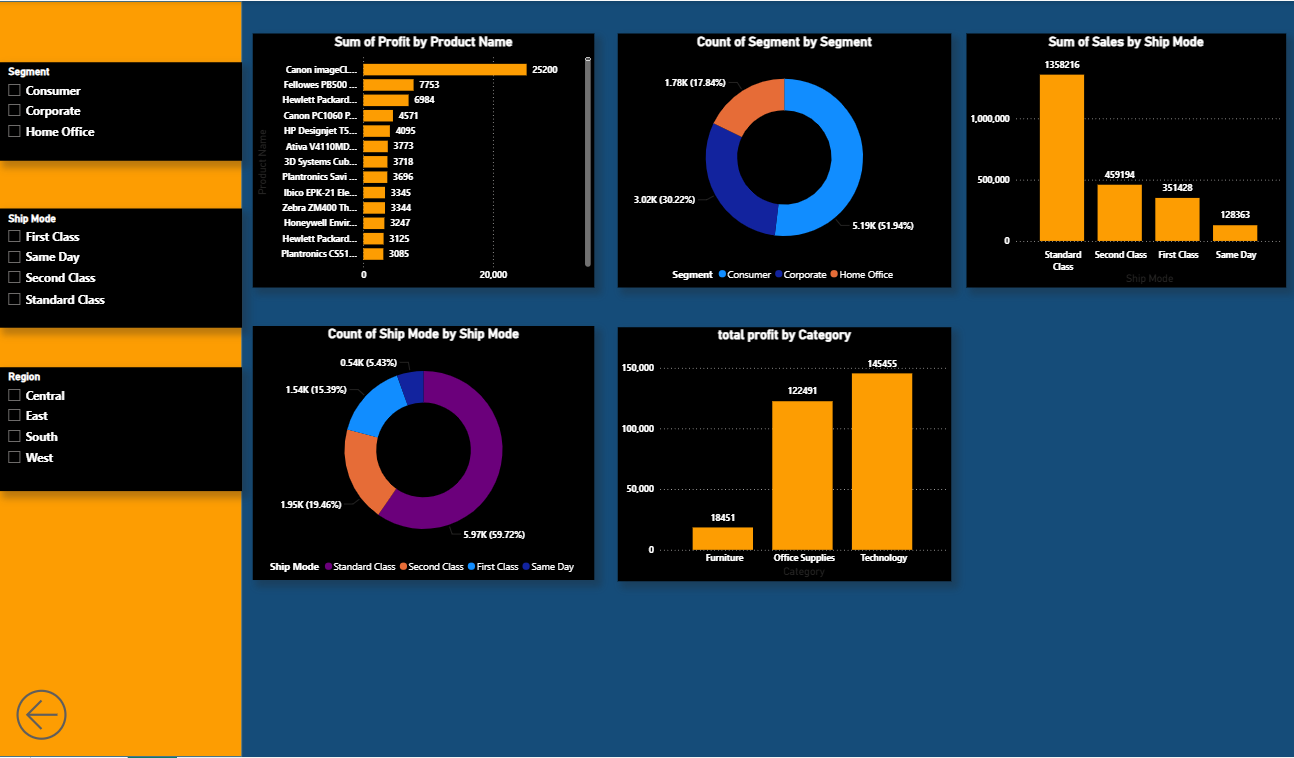

Layout of this report page (visuals, bound fields, positions):
{"tool":"powerbi","page":{"name":"Page 2","canvas":[1800,1050],"ordinal":1},"visuals":[{"type":"barChart","fields":{"Category":["Orders.Product Name"],"Y":["Sum(Orders.Profit)"]},"box":[353.1,44.4,474.7,353.1],"z":0},{"type":"donutChart","fields":{"Category":["Orders.Segment"],"Y":["CountNonNull(Orders.Segment)"]},"box":[858.7,44.4,463.1,353.1],"z":1},{"type":"donutChart","fields":{"Category":["Orders.Ship Mode"],"Y":["CountNonNull(Orders.Ship Mode)"]},"box":[353.1,451.5,474.7,353.1],"z":4},{"type":"columnChart","fields":{"Category":["Orders.Ship Mode"],"Y":["Sum(Orders.Sales)"]},"box":[1343.1,44.4,443.8,353.1],"z":5},{"type":"columnChart","fields":{"Category":["Orders.Category Hierarchy.Category","Orders.Category Hierarchy.Sub-Category"],"Y":["Orders.total profit"]},"box":[858.7,453.5,463.1,353.1],"z":6},{"type":"shape","box":[0,0,337.7,1049.7],"z":7},{"type":"slicer","fields":{"Values":["Orders.Segment"]},"box":[0,84.9,337.7,137],"z":8},{"type":"slicer","fields":{"Values":["Orders.Ship Mode"]},"box":[0,287.5,337.7,166],"z":9},{"type":"slicer","fields":{"Values":["People.Region"]},"box":[0,509.4,337.7,171.7],"z":10},{"type":"actionButton","box":[15.4,947.5,119.6,86.8],"z":11}]}

Visuals, with their boxes in screenshot pixels (x1, y1, x2, y2), scaled from the page's 1800x1050 canvas onto the 1294x758 screenshot:
barChart - Orders.Product Name x Sum(Orders.Profit): [left=254, top=32, right=595, bottom=287]
donutChart - Orders.Segment x CountNonNull(Orders.Segment): [left=617, top=32, right=950, bottom=287]
donutChart - Orders.Ship Mode x CountNonNull(Orders.Ship Mode): [left=254, top=326, right=595, bottom=581]
columnChart - Orders.Ship Mode x Sum(Orders.Sales): [left=966, top=32, right=1285, bottom=287]
columnChart - Orders.Category Hierarchy.Category x Orders.Category Hierarchy.Sub-Category: [left=617, top=327, right=950, bottom=582]
shape: [left=0, top=0, right=243, bottom=757]
slicer - Orders.Segment: [left=0, top=61, right=243, bottom=160]
slicer - Orders.Ship Mode: [left=0, top=208, right=243, bottom=327]
slicer - People.Region: [left=0, top=368, right=243, bottom=492]
actionButton: [left=11, top=684, right=97, bottom=747]
